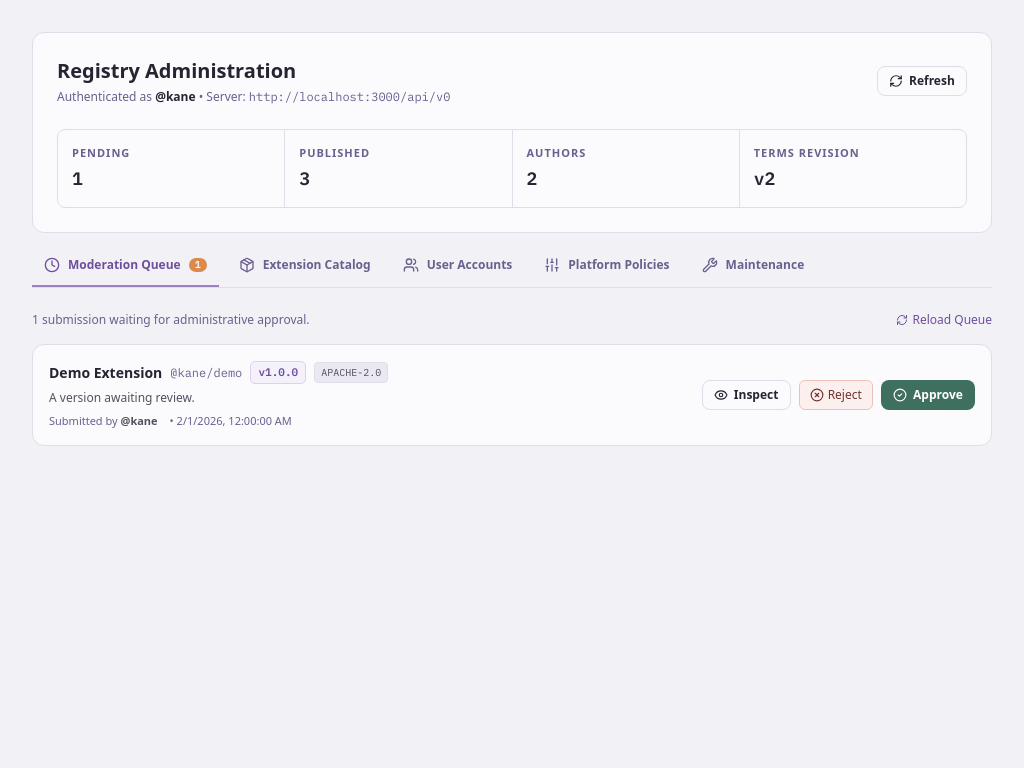
Test: AdminPage › inspects another account sessions and tokens
Click the button "User Accounts": coordinates (457, 272) [391,257,524,287]
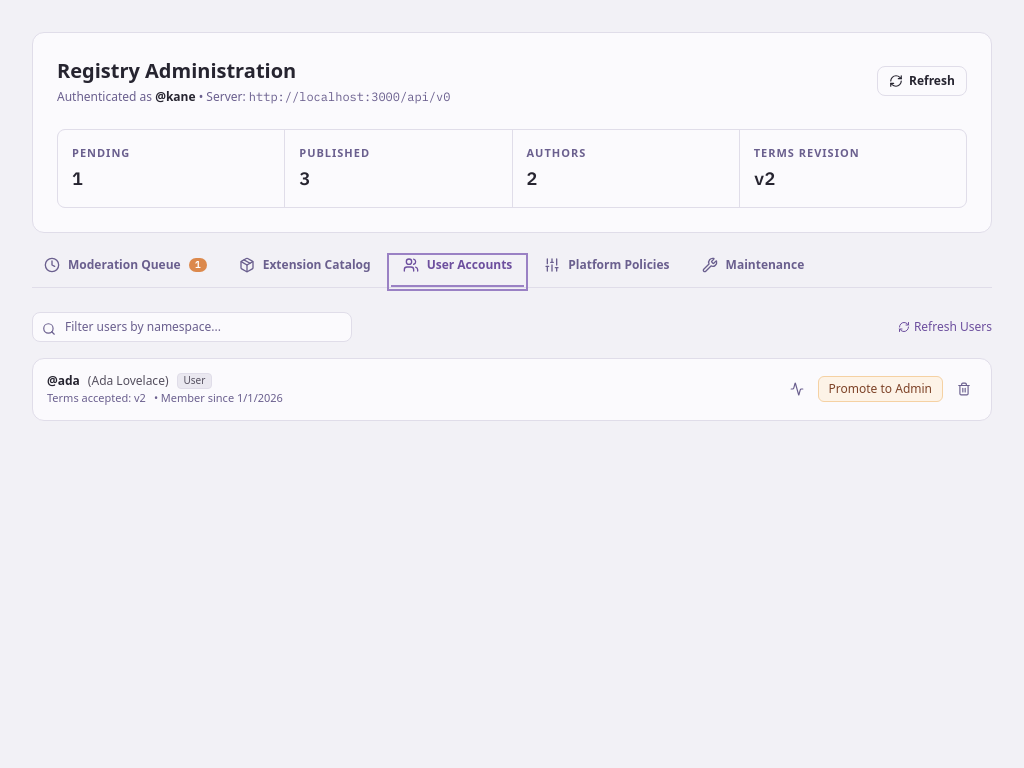
Click the button titled "Sessions & tokens for @ada": coordinates (797, 389) [784,376,810,402]
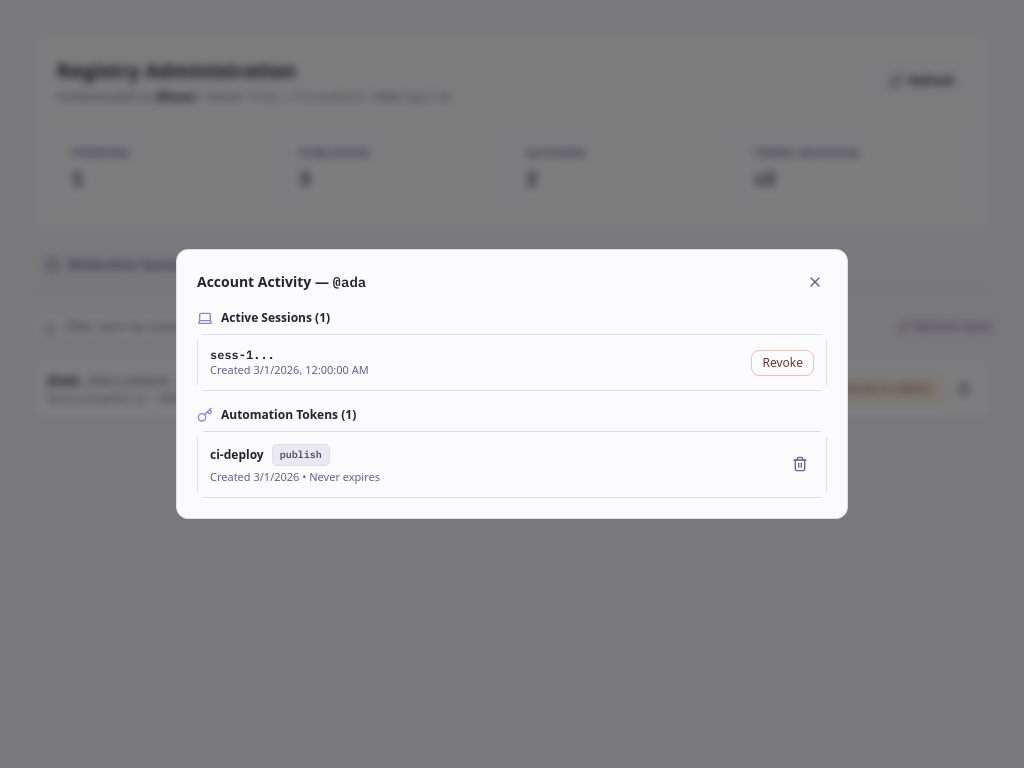
Expected: the text "Active Sessions (1)" is shown, [221,310,330,326]
Expected: the text "Automation Tokens (1)" is shown, [221,407,356,423]
Click the button named "Close": coordinates (815, 282) [803,270,827,294]
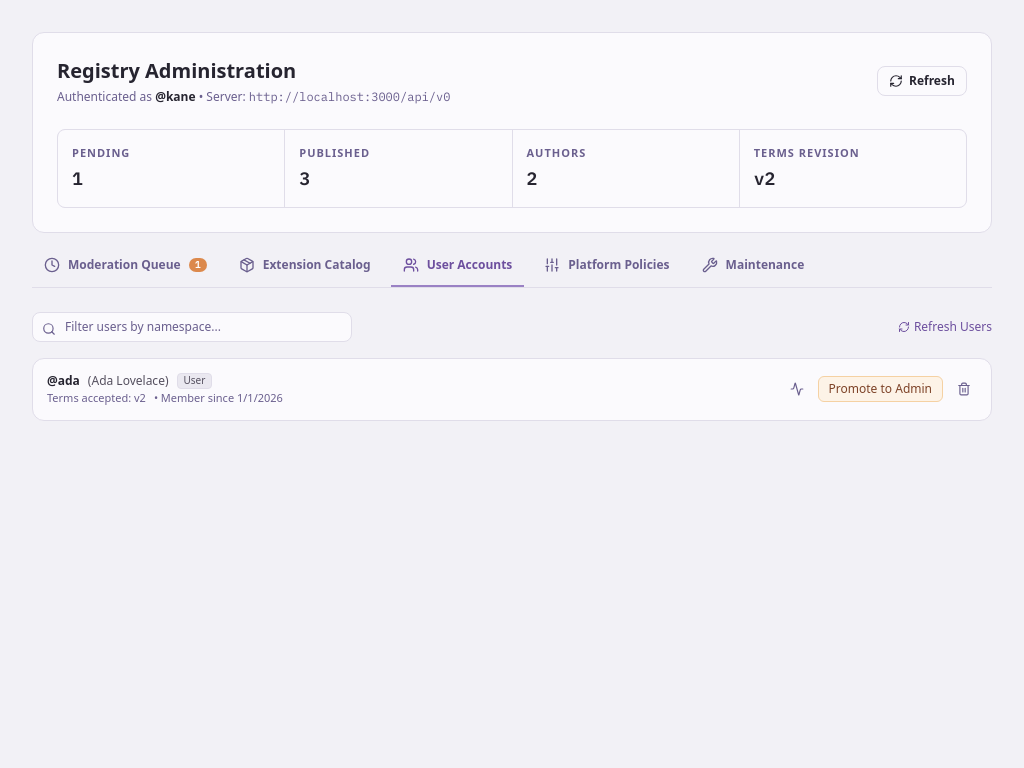
Expected: the dialog is gone
